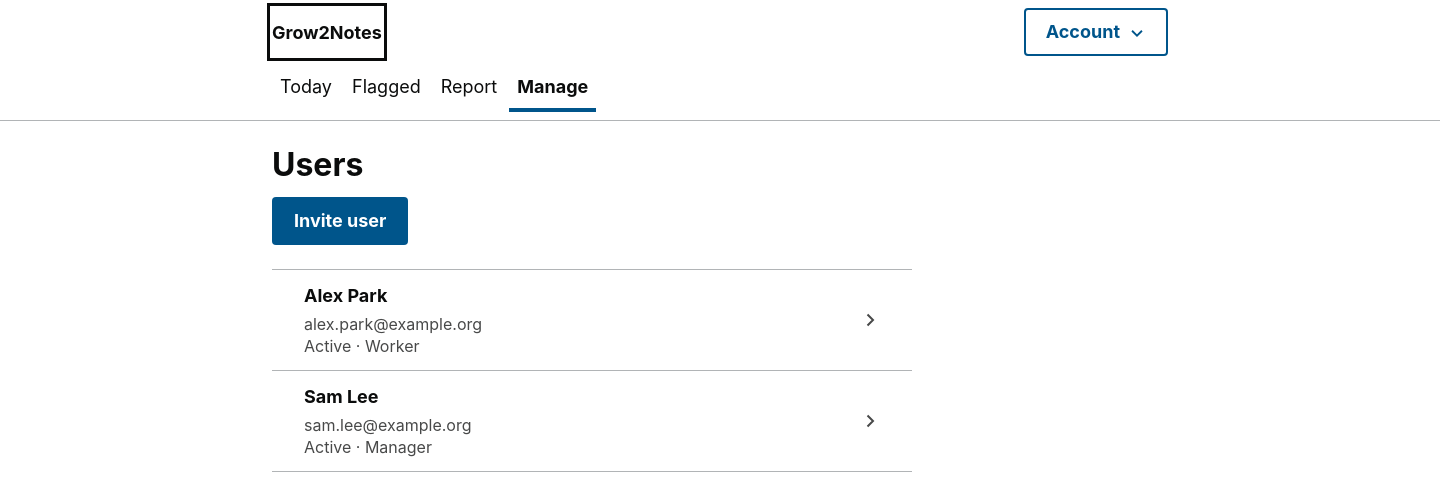
a new screen › from the nav link Grow2Notes focuses the new screen's <h1> and scrolls to the top
(page scrolled)
Click the link "Grow2Notes" at coordinates (327, 32), box [272,22,382,42]
Wait 1 ms
(page scrolled)
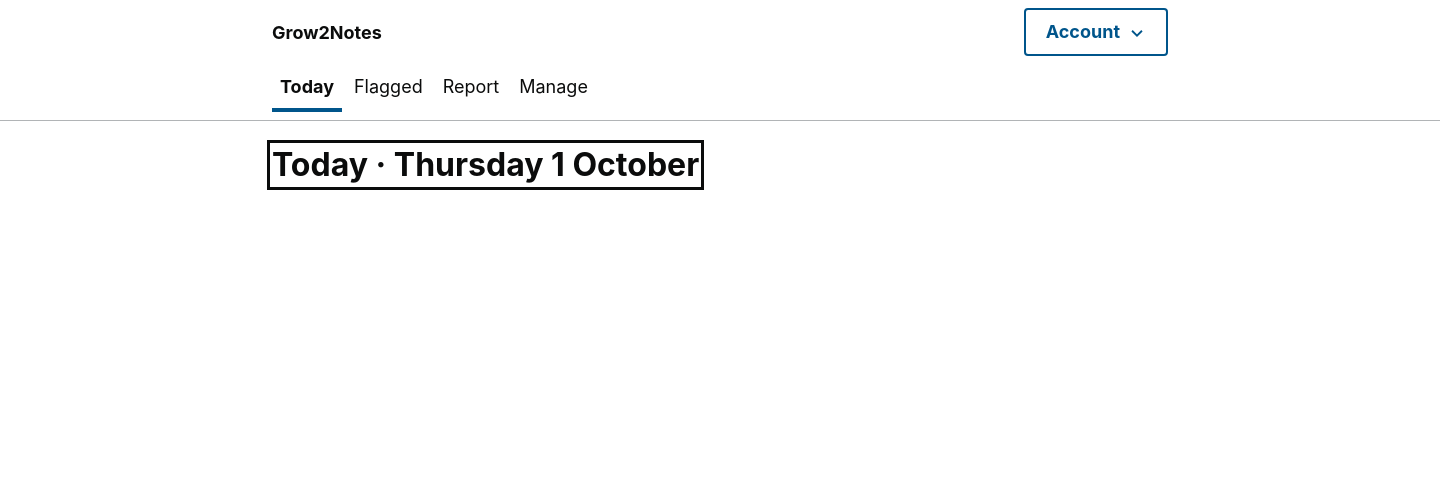
Expected: the heading shows "Today", [272,145,368,184]
